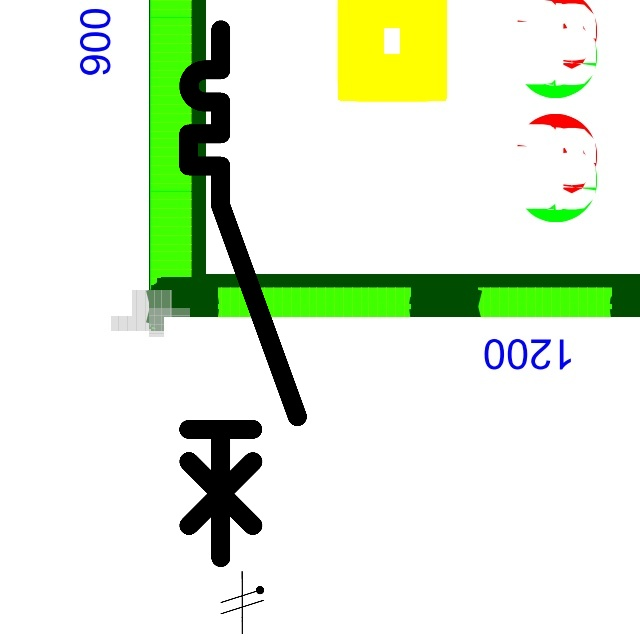interruptor_termomagnetico: (175, 16, 311, 571)
